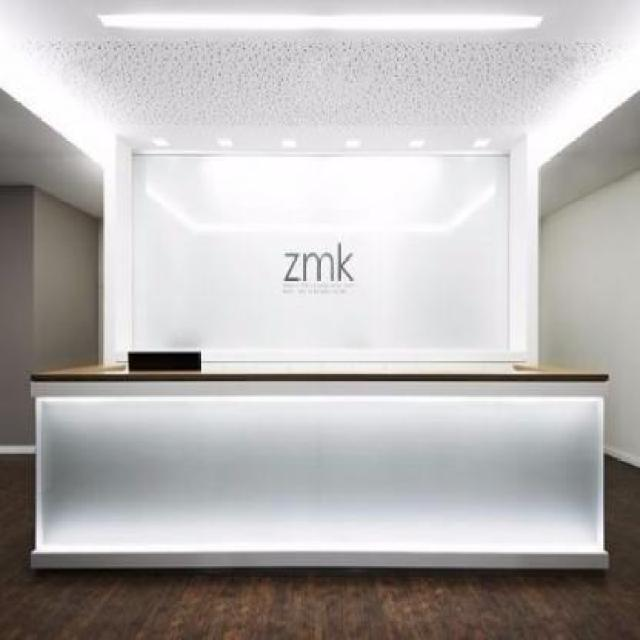frontdesk: (23, 342, 617, 580)
